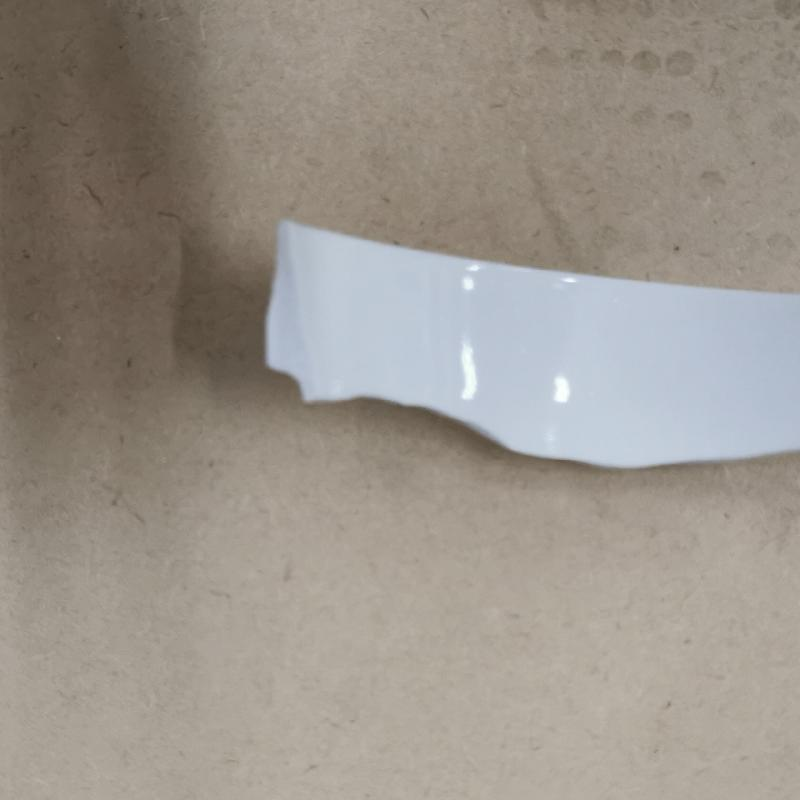ceram: (263, 214, 800, 478)
